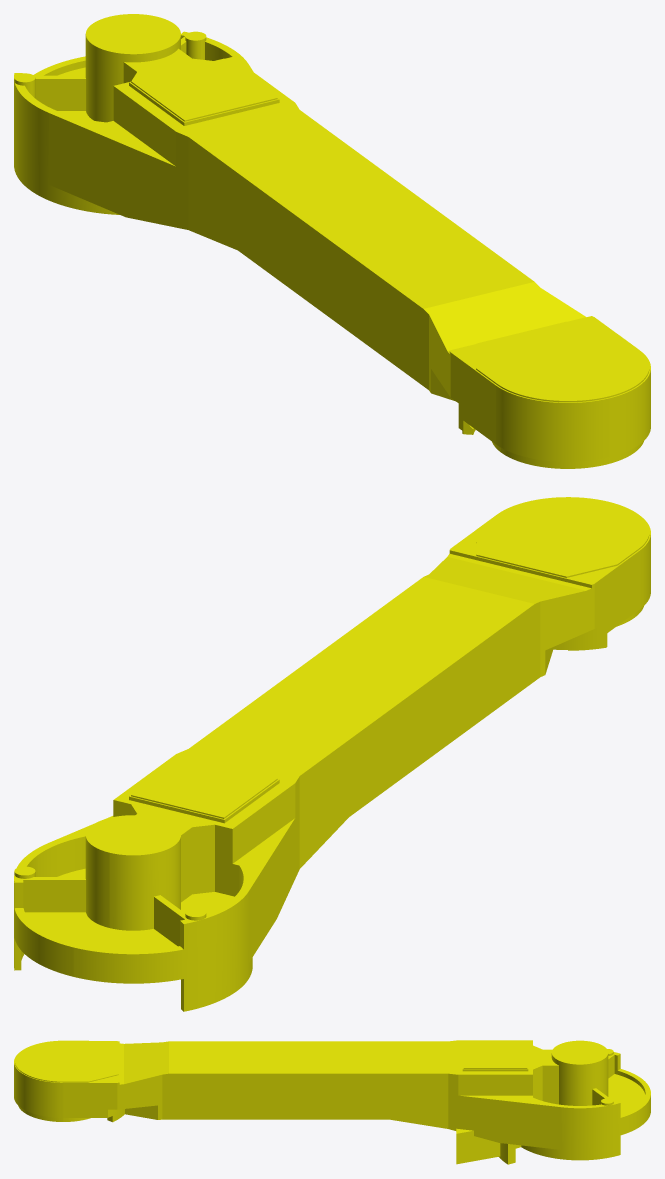
3 views of the same model, one above another, from view 1: azimuth 30°, elevation 25°; view 2: azimuth 150°, elevation 25°; view 3: azimuth 270°, elevation 25° (orthographic). The views are drawn at different scales.
Visible parts, largest first — view 1: Mesh_0; view 2: Mesh_0; view 3: Mesh_0.
Part boxes in pixels (box(x1,y1,x2,y2)): Mesh_0: box(14, 14, 650, 468); Mesh_0: box(14, 497, 650, 1011); Mesh_0: box(14, 1040, 650, 1164).
Bounding box in the file's own units: 0.316 × 0.225 × 1.42.
